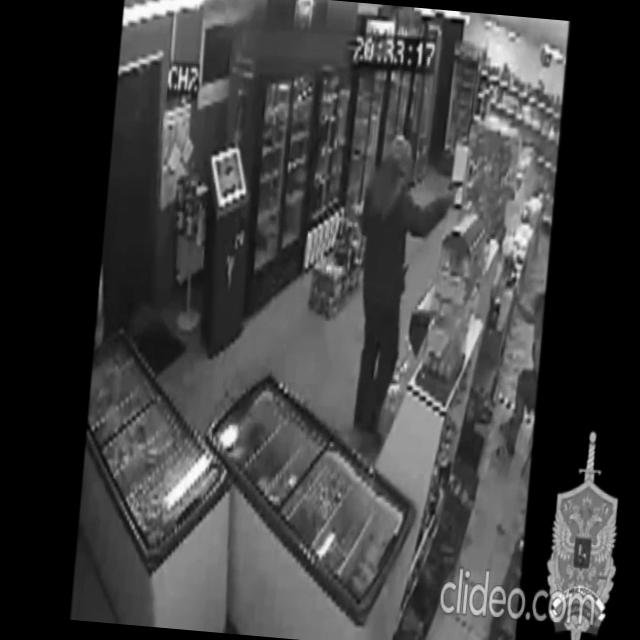gun: (448, 178, 465, 192)
person with a gun: (342, 128, 469, 442)
